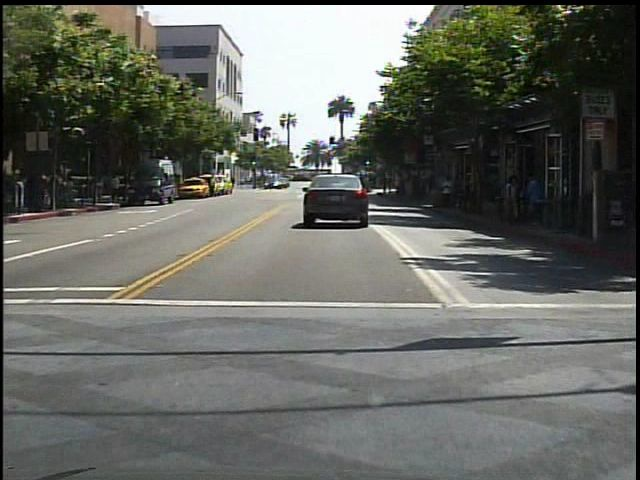person: (438, 172, 457, 212)
